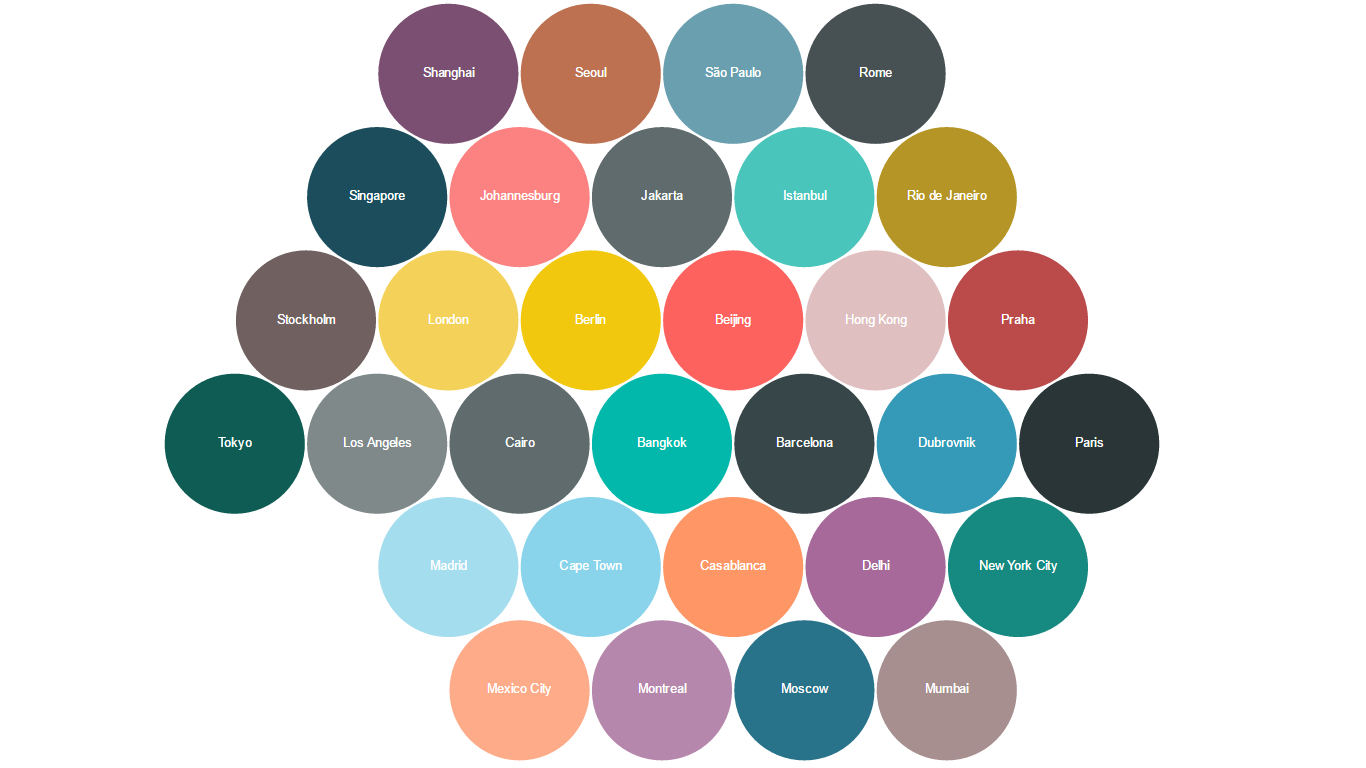

Layout of this report page (visuals, bound fields, positions):
{"tool":"powerbi","page":{"name":"Bubbles","canvas":[1280,720],"ordinal":0},"visuals":[{"type":"bubbleChartEEDCDFA388784AEEAB47972BC1626196","fields":{"category":["TimelineTable.City"]},"box":[3.5,7.8,1268,704.4],"z":1}]}

Visuals, with their boxes in screenshot pixels (x1, y1, x2, y2), scaled from the page's 1280x720 canvas onto the 1366x768 screenshot:
bubbleChartEEDCDFA388784AEEAB47972BC1626196 - TimelineTable.City: 4,8,1357,760
